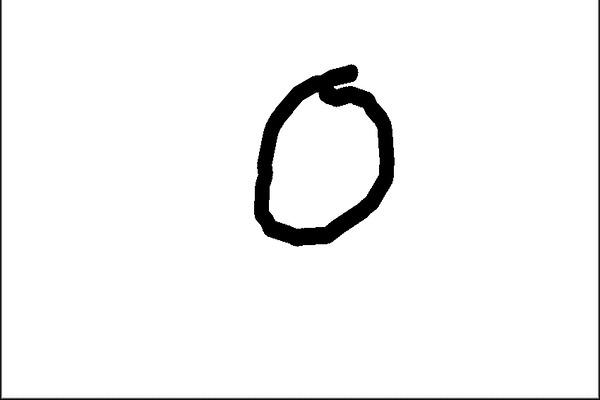O: (238, 52, 399, 256)
